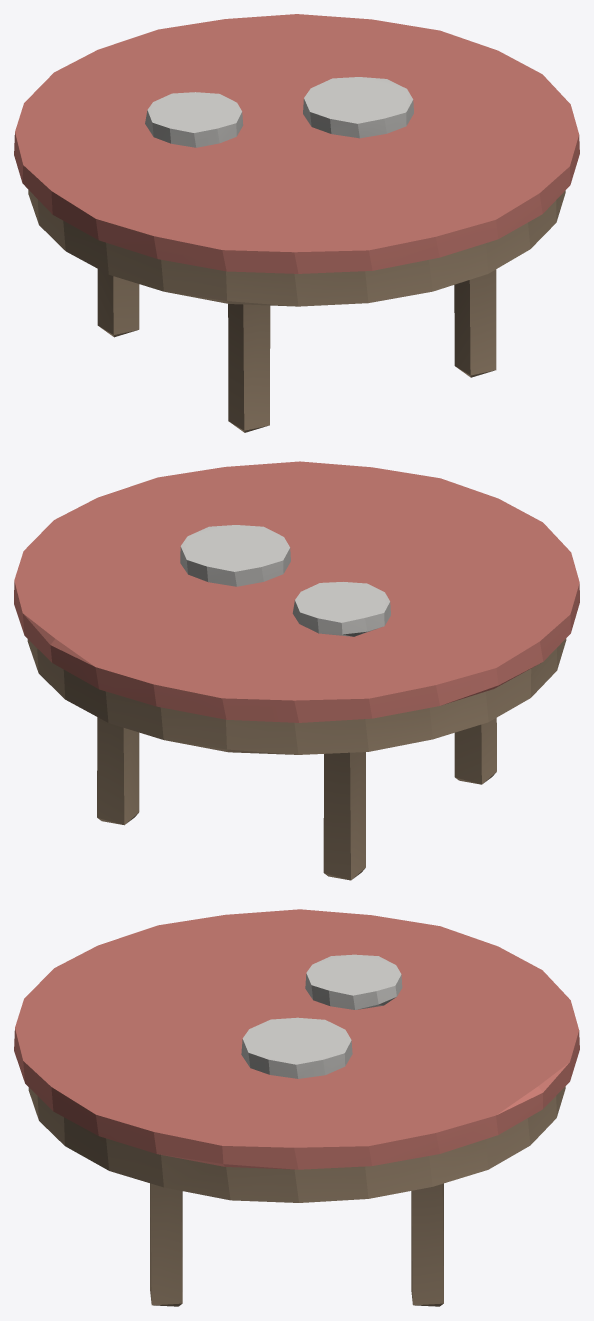
File: furn_soban__red_low.glb
The picture shows the model from 3 angles, top to bottom: view 1: azimuth 30°, elevation 25°; view 2: azimuth 150°, elevation 25°; view 3: azimuth 270°, elevation 25°; orthographic projection.
Bounding box in the file's own units: 0.7966 × 0.3684 × 0.7966.
